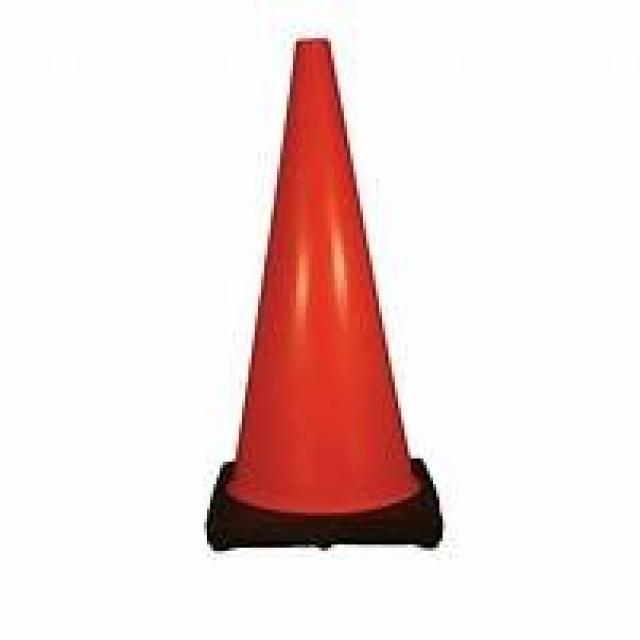traffic cone: (186, 27, 451, 561)
